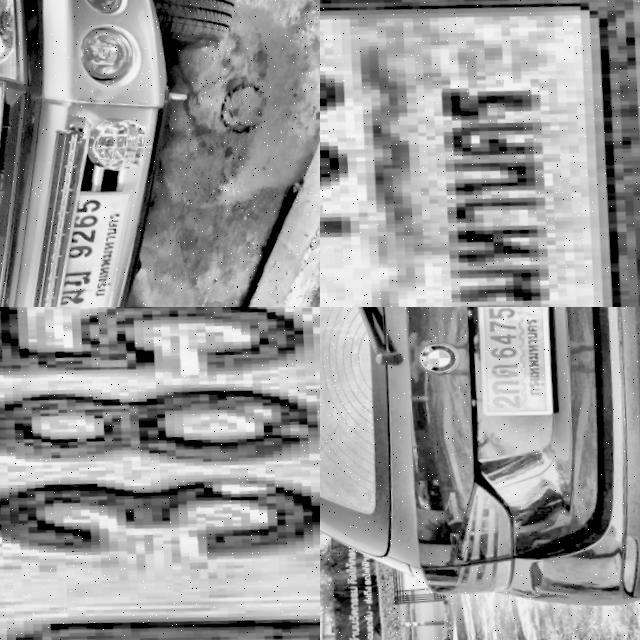license-plate: (0, 307, 320, 640), (320, 0, 640, 307), (46, 179, 147, 307), (473, 307, 561, 415)
